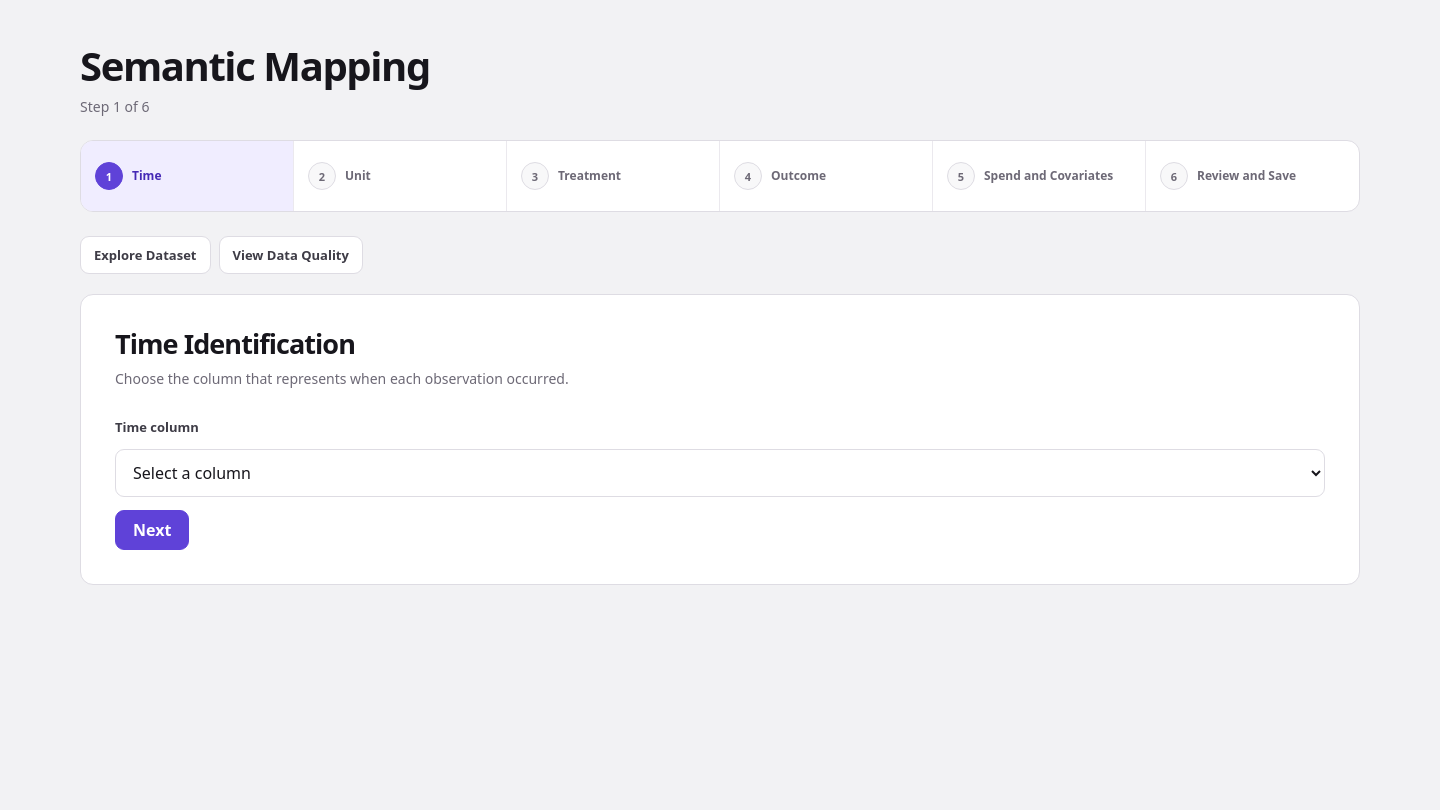
Test: semantic mapping ready dataset experience › validates Unit before advancing to Treatment
Expected: the text "Step 1 of 6" is shown, [80,97,150,116]
Select "event_date — date" in the dropdown labelled "Time column" at coordinates (720, 473), box [115,449,1325,497]
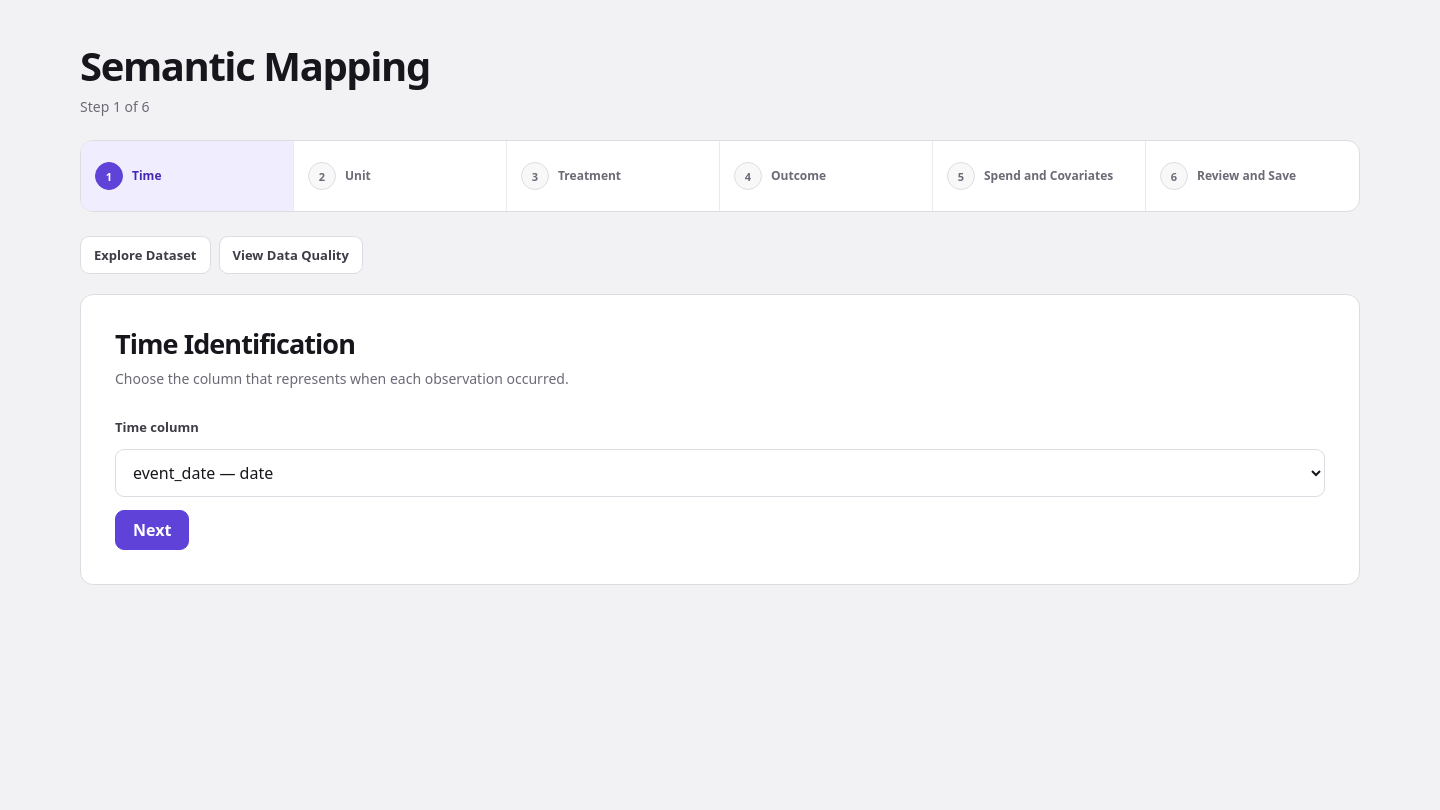
Click the button "Next" at coordinates (152, 530), box [115,510,189,550]
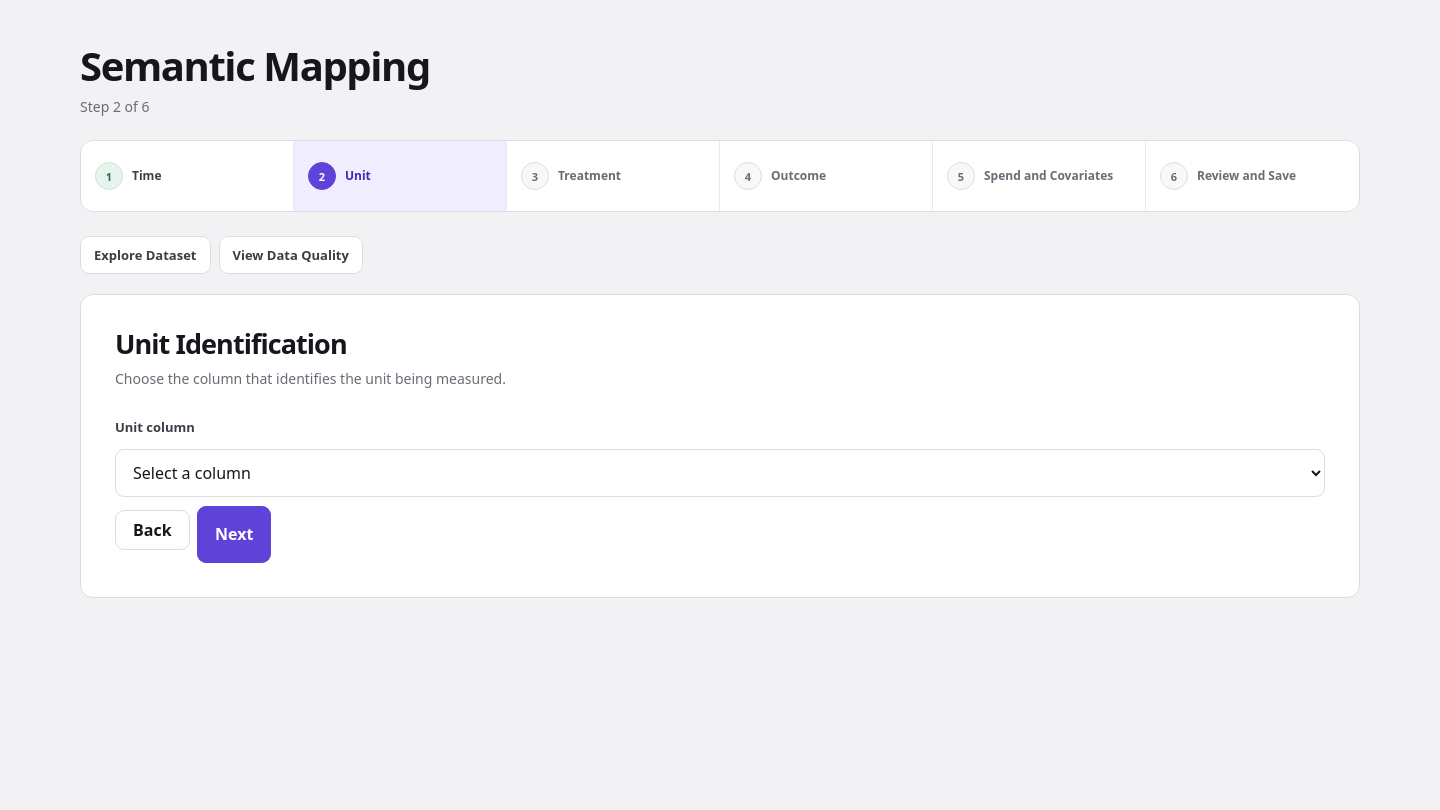
Expected: the text "Step 2 of 6" is shown, [80,97,150,116]
Click the button "Next" at coordinates (234, 534), box [197,506,271,563]
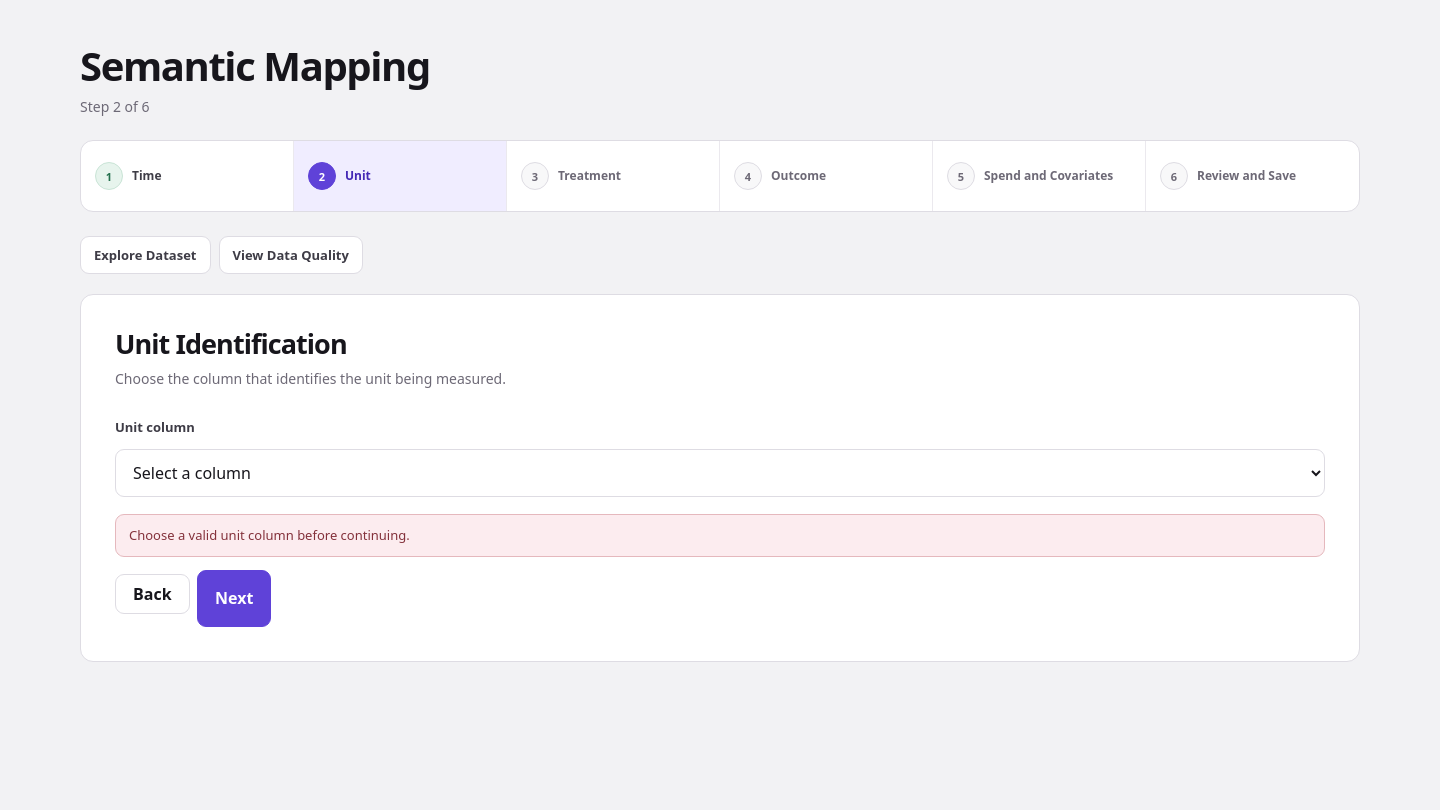
Expected: the text "Step 2 of 6" is shown, [80,97,150,116]
Expected: the message reads "Choose a valid unit column before continuing.", [129,526,410,544]
Select "region — string" in the dropdown labelled "Unit column" at coordinates (720, 473), box [115,449,1325,497]
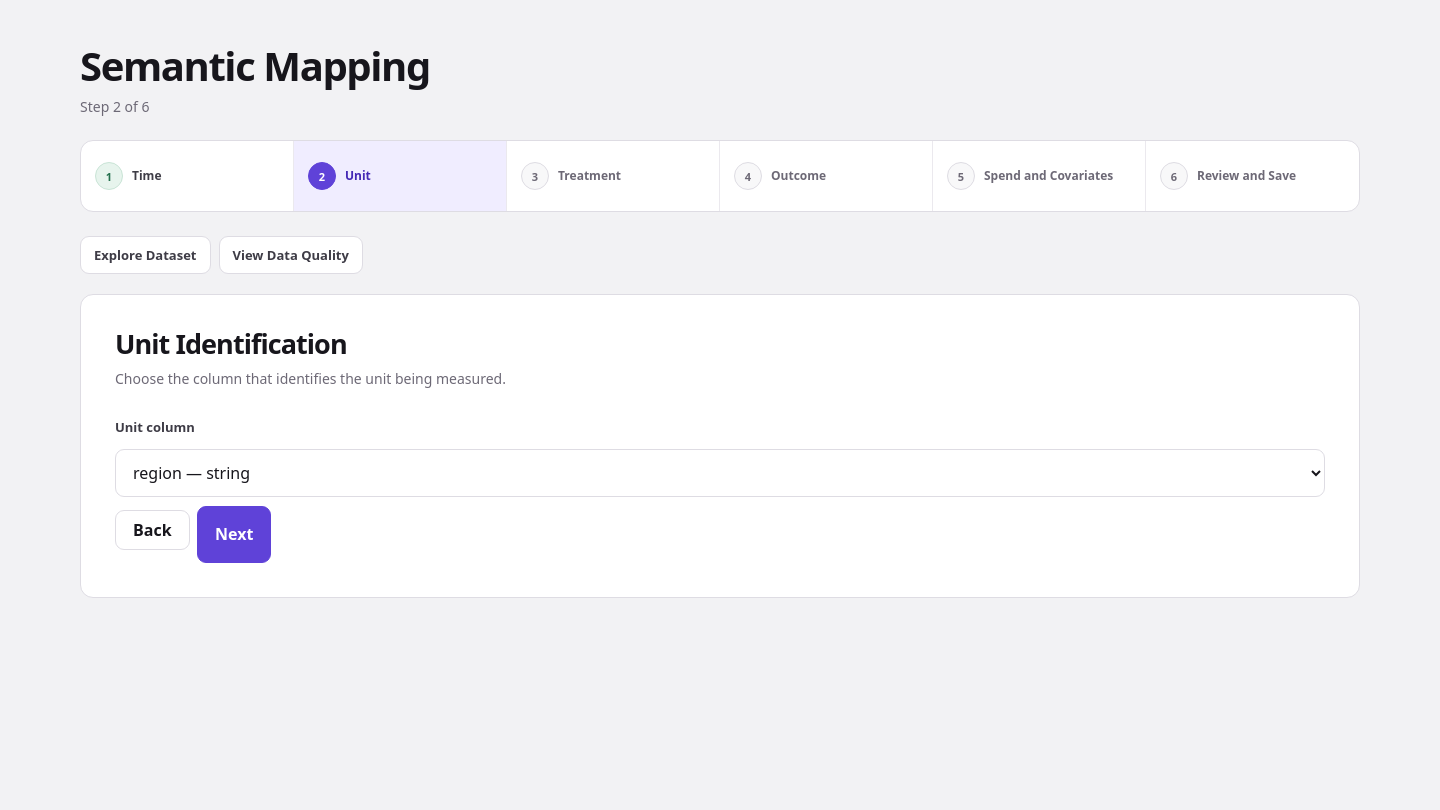
Click the button "Next" at coordinates (234, 534), box [197,506,271,563]
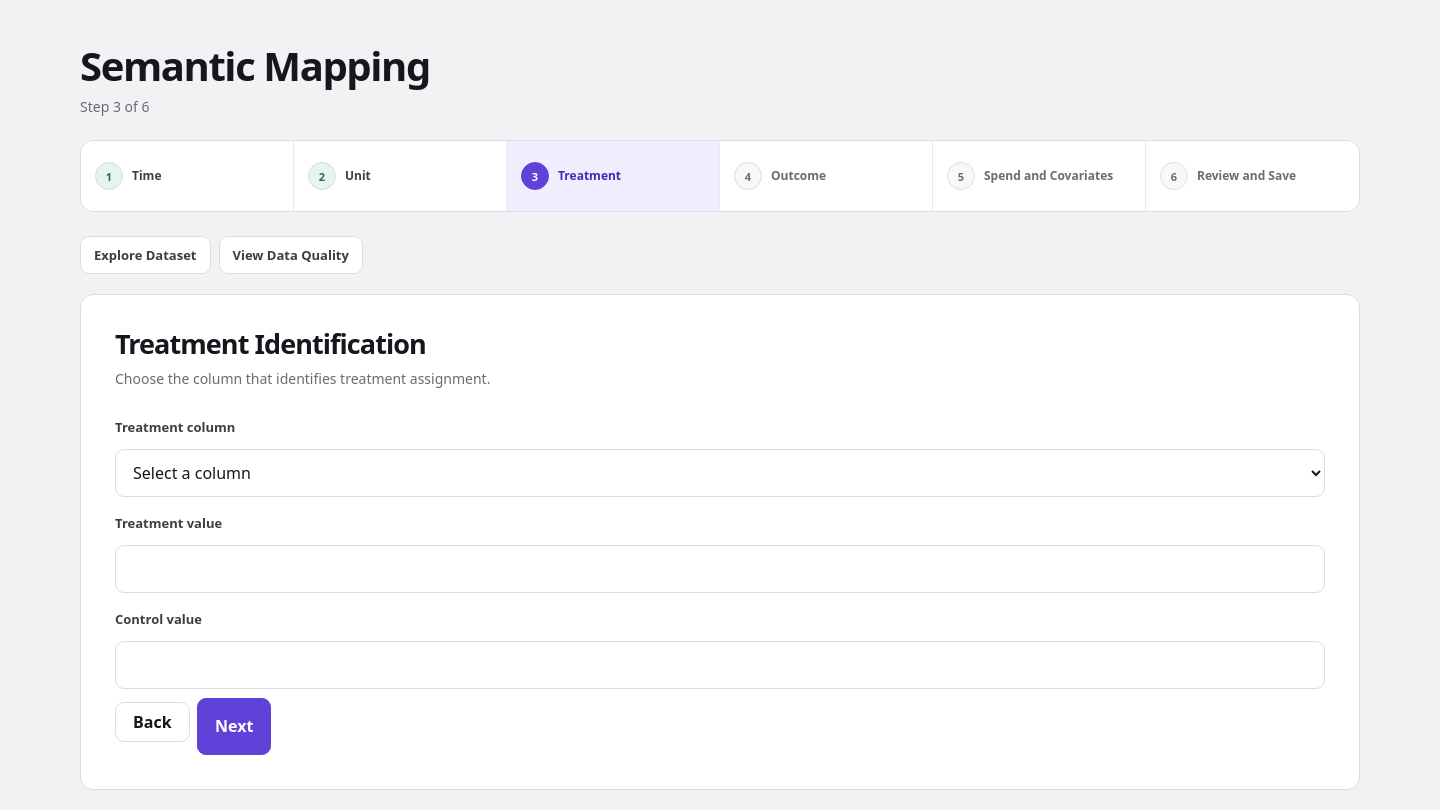
Expected: the text "Step 3 of 6" is shown, [80,97,150,116]
Expected: the heading "Treatment Identification" is shown, [115,325,426,362]
